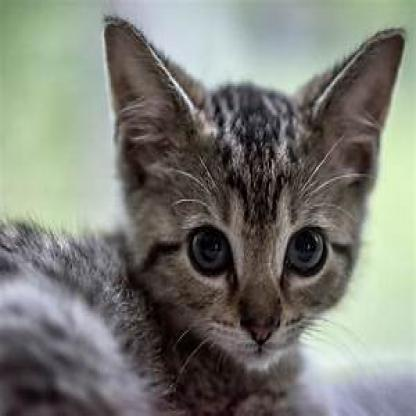cat: (1, 12, 400, 399)
